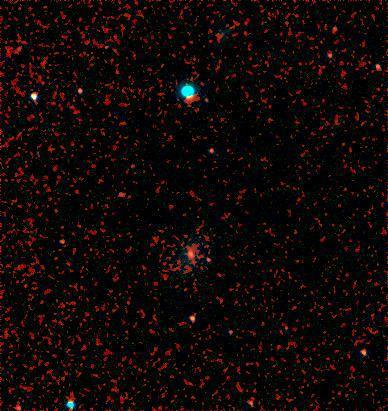star: (174, 242, 204, 272)
